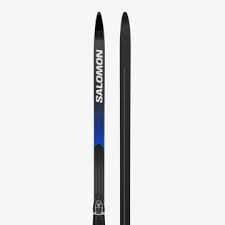skis: (90, 12, 133, 225)
